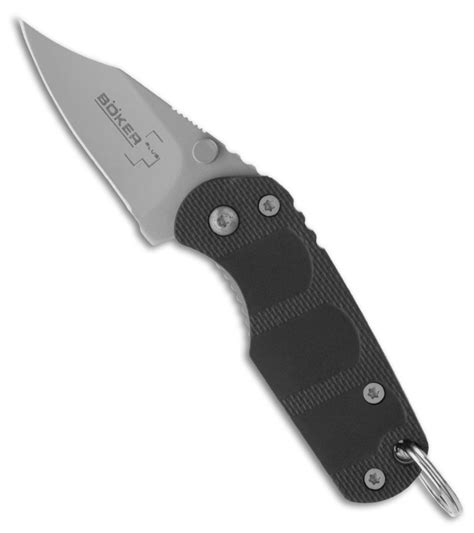knife: (19, 15, 430, 504)
